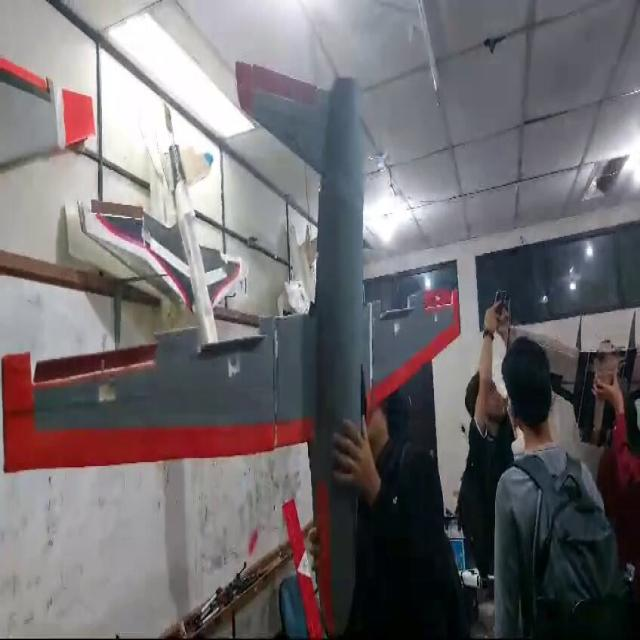plane: (1, 59, 461, 637)
